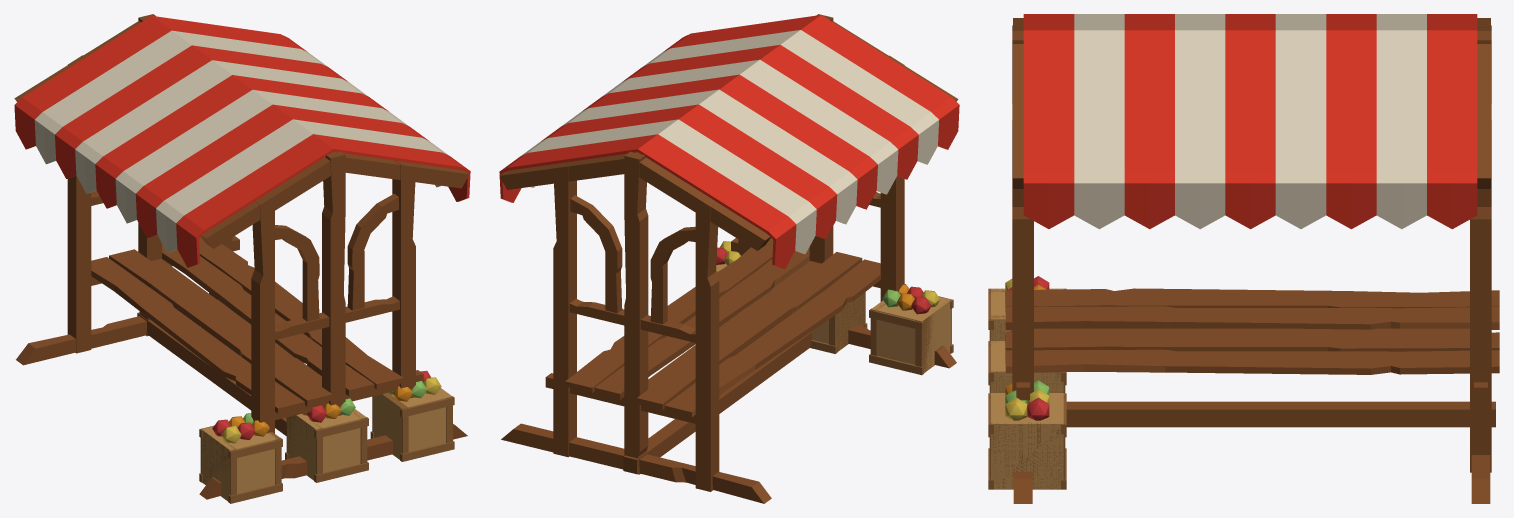
The model's file is market_stand.glb.
3 renders of one model, left to right at view 1: azimuth 30°, elevation 25°; view 2: azimuth 150°, elevation 25°; view 3: azimuth 270°, elevation 25°, orthographic. The views are drawn at different scales.
Parts seen in each view (by area): view 1: building-market_stand; view 2: building-market_stand; view 3: building-market_stand.
Part boxes in pixels (<box>): building-market_stand: <box>14,14,470,503</box>; building-market_stand: <box>499,14,959,503</box>; building-market_stand: <box>988,14,1499,503</box>.
Size of the model in its own units: 2.72 by 3 by 3.52.
